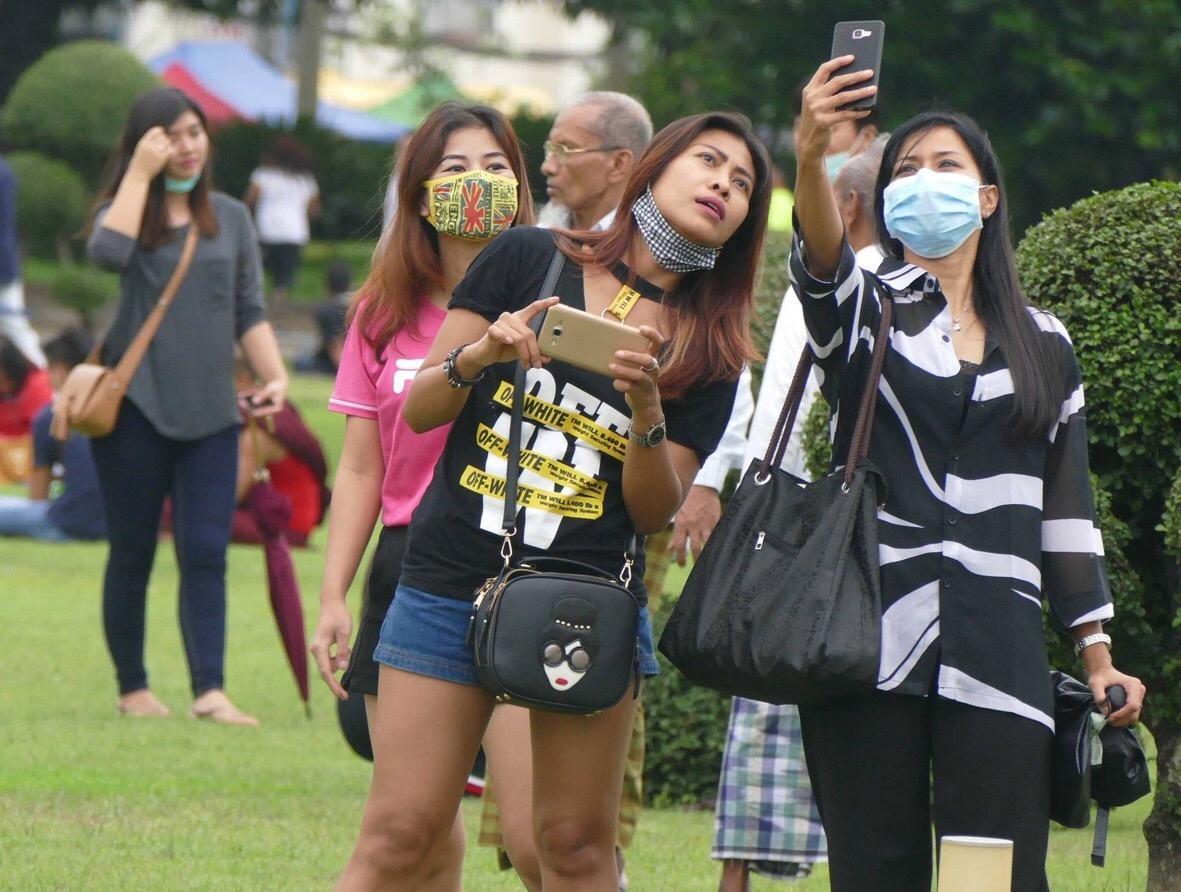NONE: (539, 129, 618, 206)
OK: (881, 143, 1005, 267), (415, 138, 528, 251)
WRONG: (641, 142, 756, 272), (158, 126, 219, 193)
